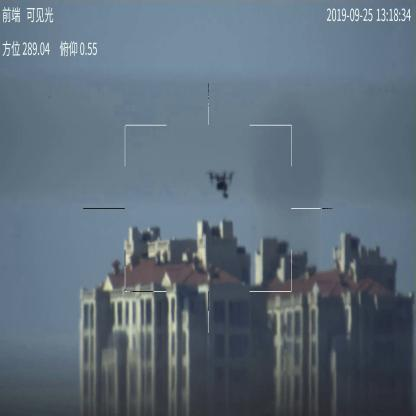uav: (206, 170, 235, 200)
